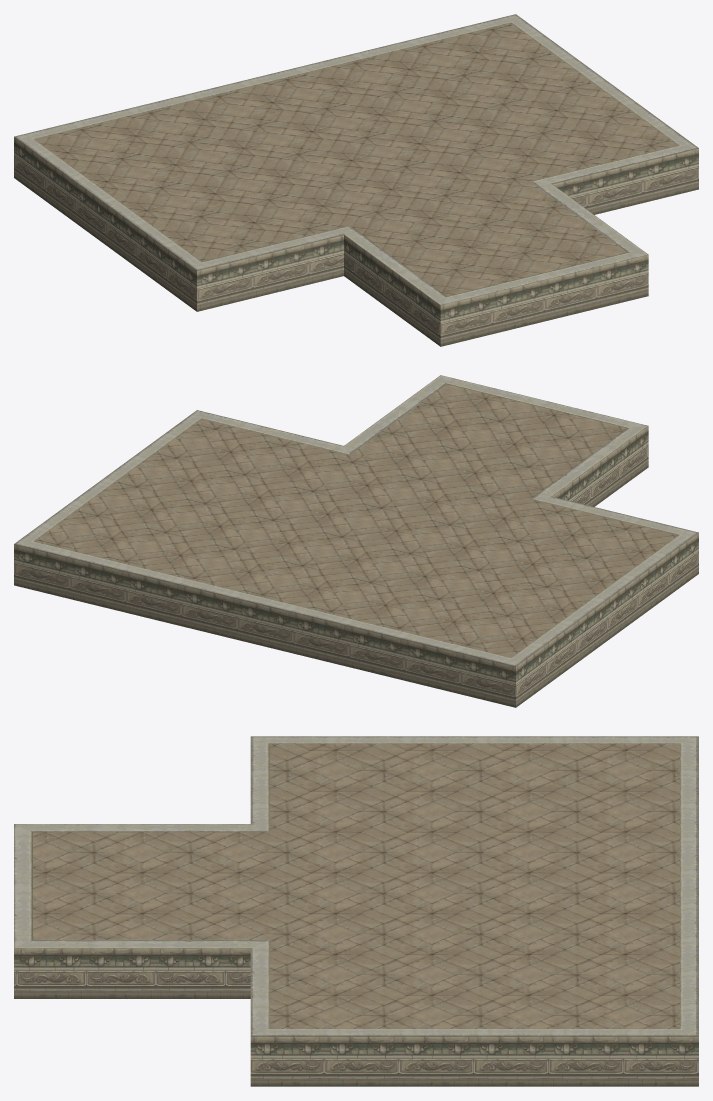
Rendered from environment_Building_zhucheng_dizhuan_001_f.FBX.
The picture shows the model from 3 angles, top to bottom: view 1: azimuth 30°, elevation 25°; view 2: azimuth 150°, elevation 25°; view 3: azimuth 270°, elevation 25°; orthographic projection. The views are drawn at different scales.
Visible parts, largest first — view 1: environment_Building_zhucheng_dizhuan_001_f1, environment_Building_zhucheng_dizhuan_001_f2; view 2: environment_Building_zhucheng_dizhuan_001_f1, environment_Building_zhucheng_dizhuan_001_f2; view 3: environment_Building_zhucheng_dizhuan_001_f1, environment_Building_zhucheng_dizhuan_001_f2.
Boxes of the visible parts, <box> form: environment_Building_zhucheng_dizhuan_001_f1: <box>34,23,678,296</box>; environment_Building_zhucheng_dizhuan_001_f2: <box>14,14,698,346</box>; environment_Building_zhucheng_dizhuan_001_f1: <box>34,384,678,657</box>; environment_Building_zhucheng_dizhuan_001_f2: <box>14,375,698,707</box>; environment_Building_zhucheng_dizhuan_001_f1: <box>33,743,679,1028</box>; environment_Building_zhucheng_dizhuan_001_f2: <box>14,736,698,1086</box>.
Size of the model in its own units: 2577 by 203 by 2487.
